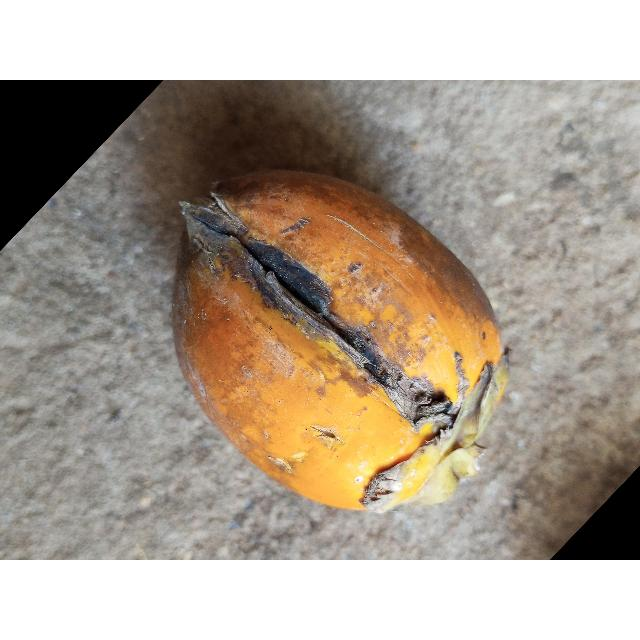damaged: (170, 171, 509, 515)
